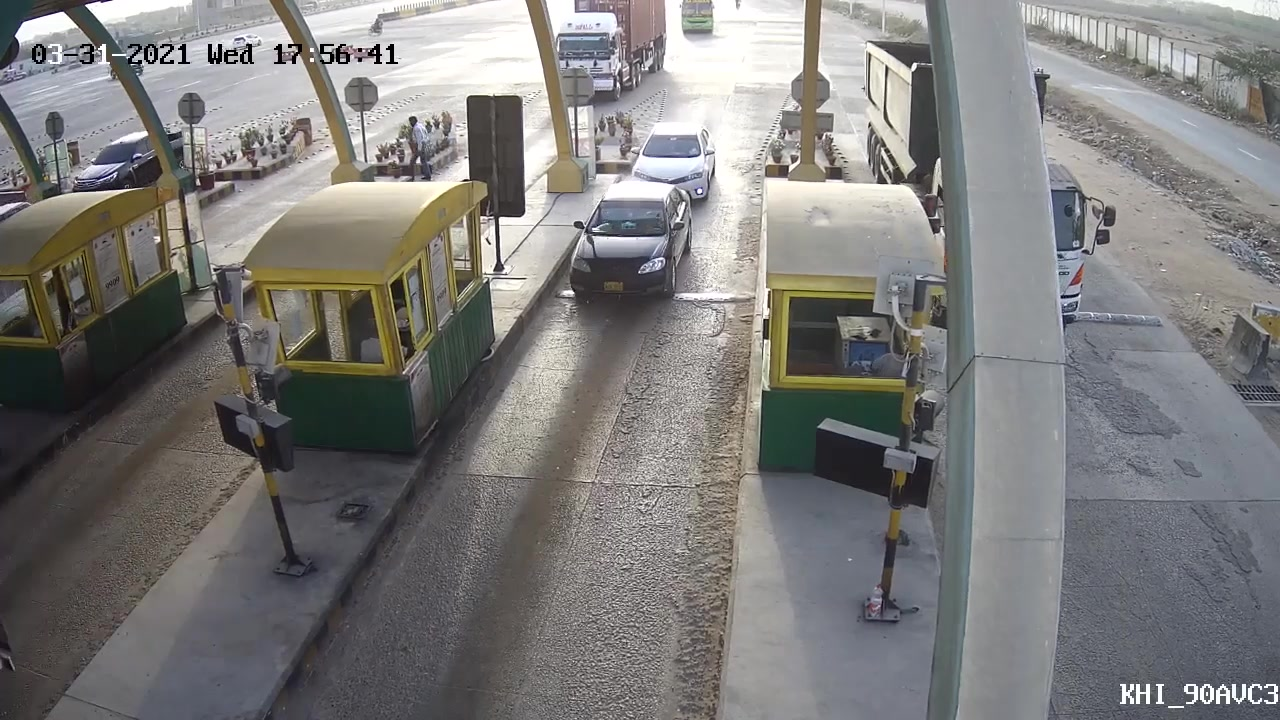F1: (563, 179, 698, 331)
